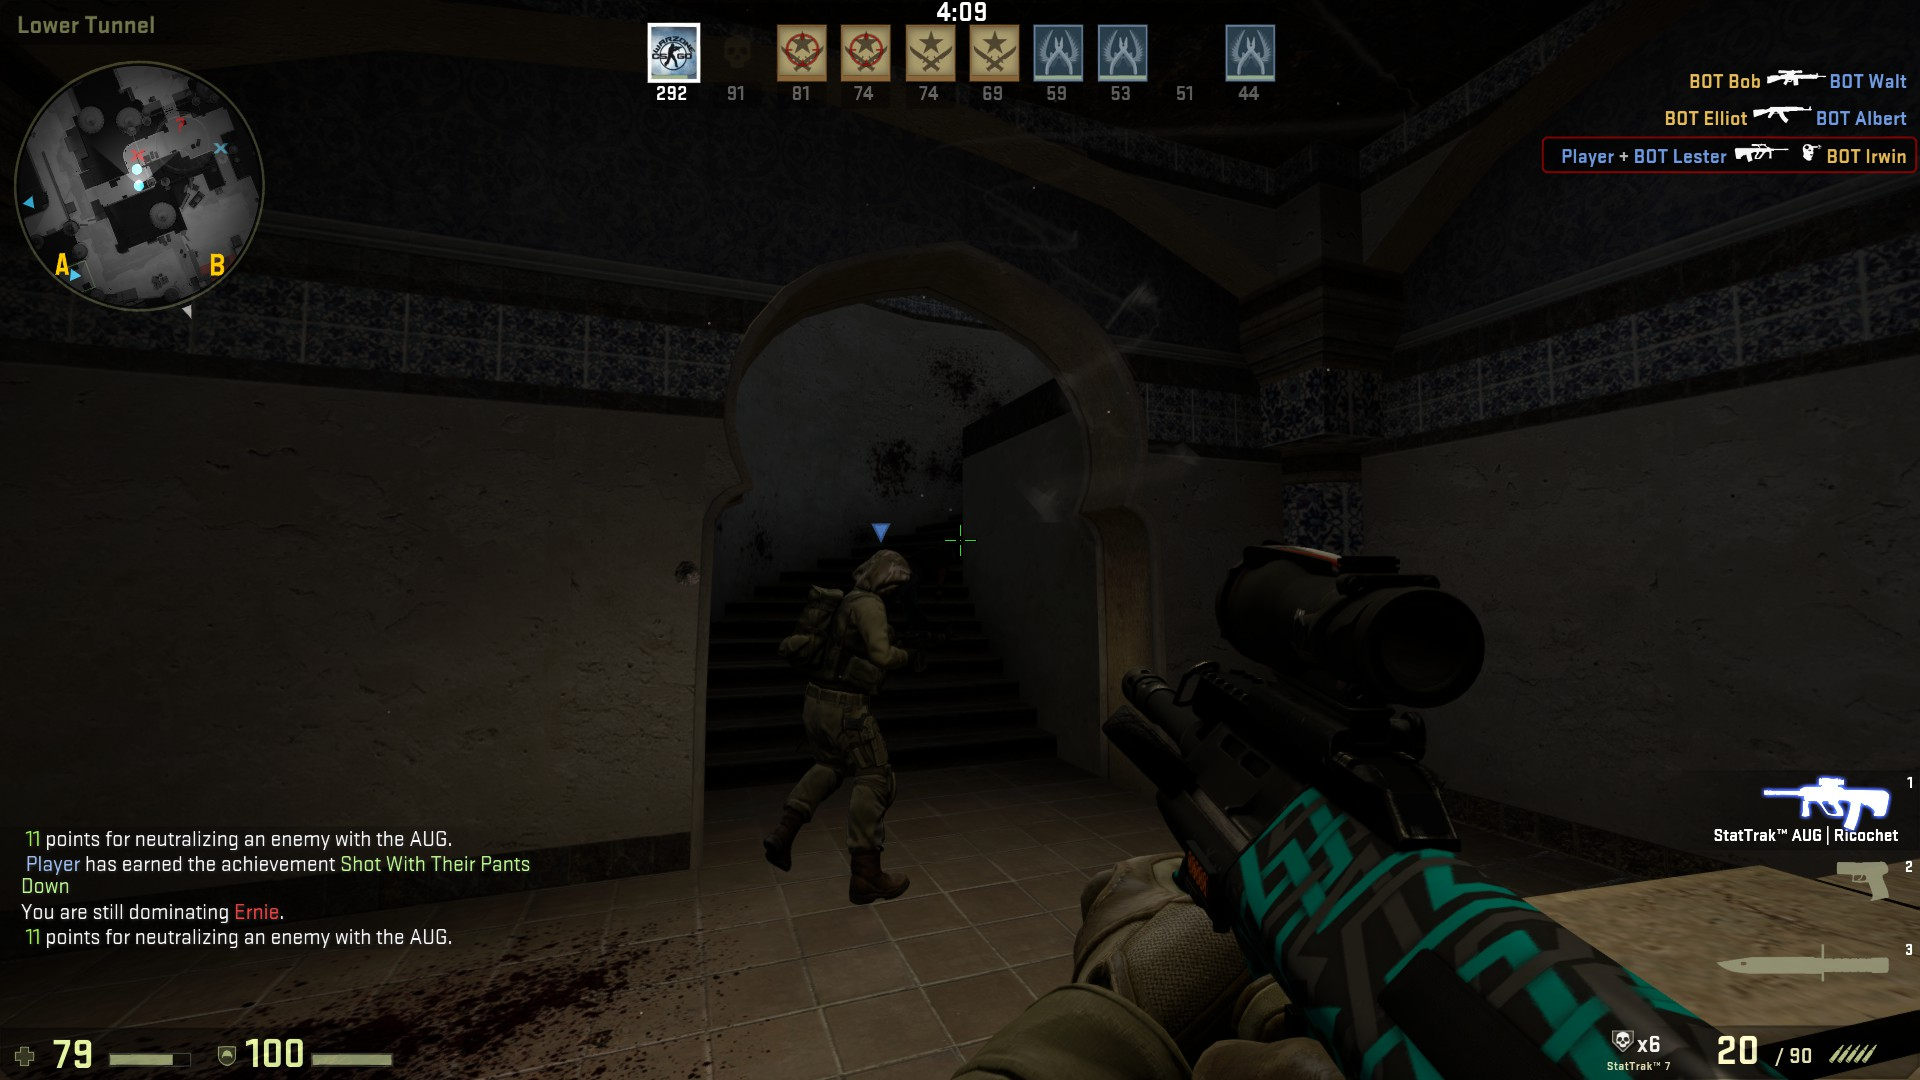c: (779, 549, 920, 898)
ch: (848, 539, 923, 611)
